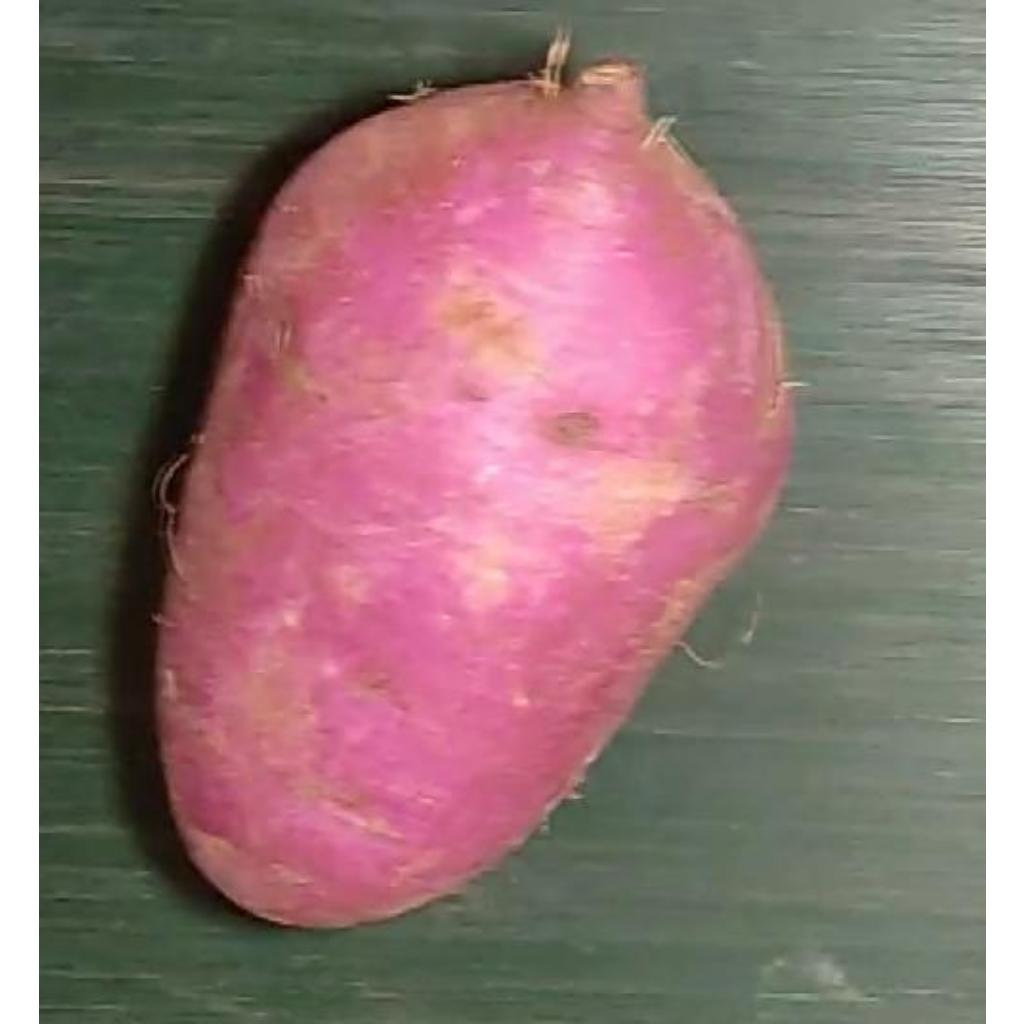Sweet Potato: (147, 27, 796, 934)
